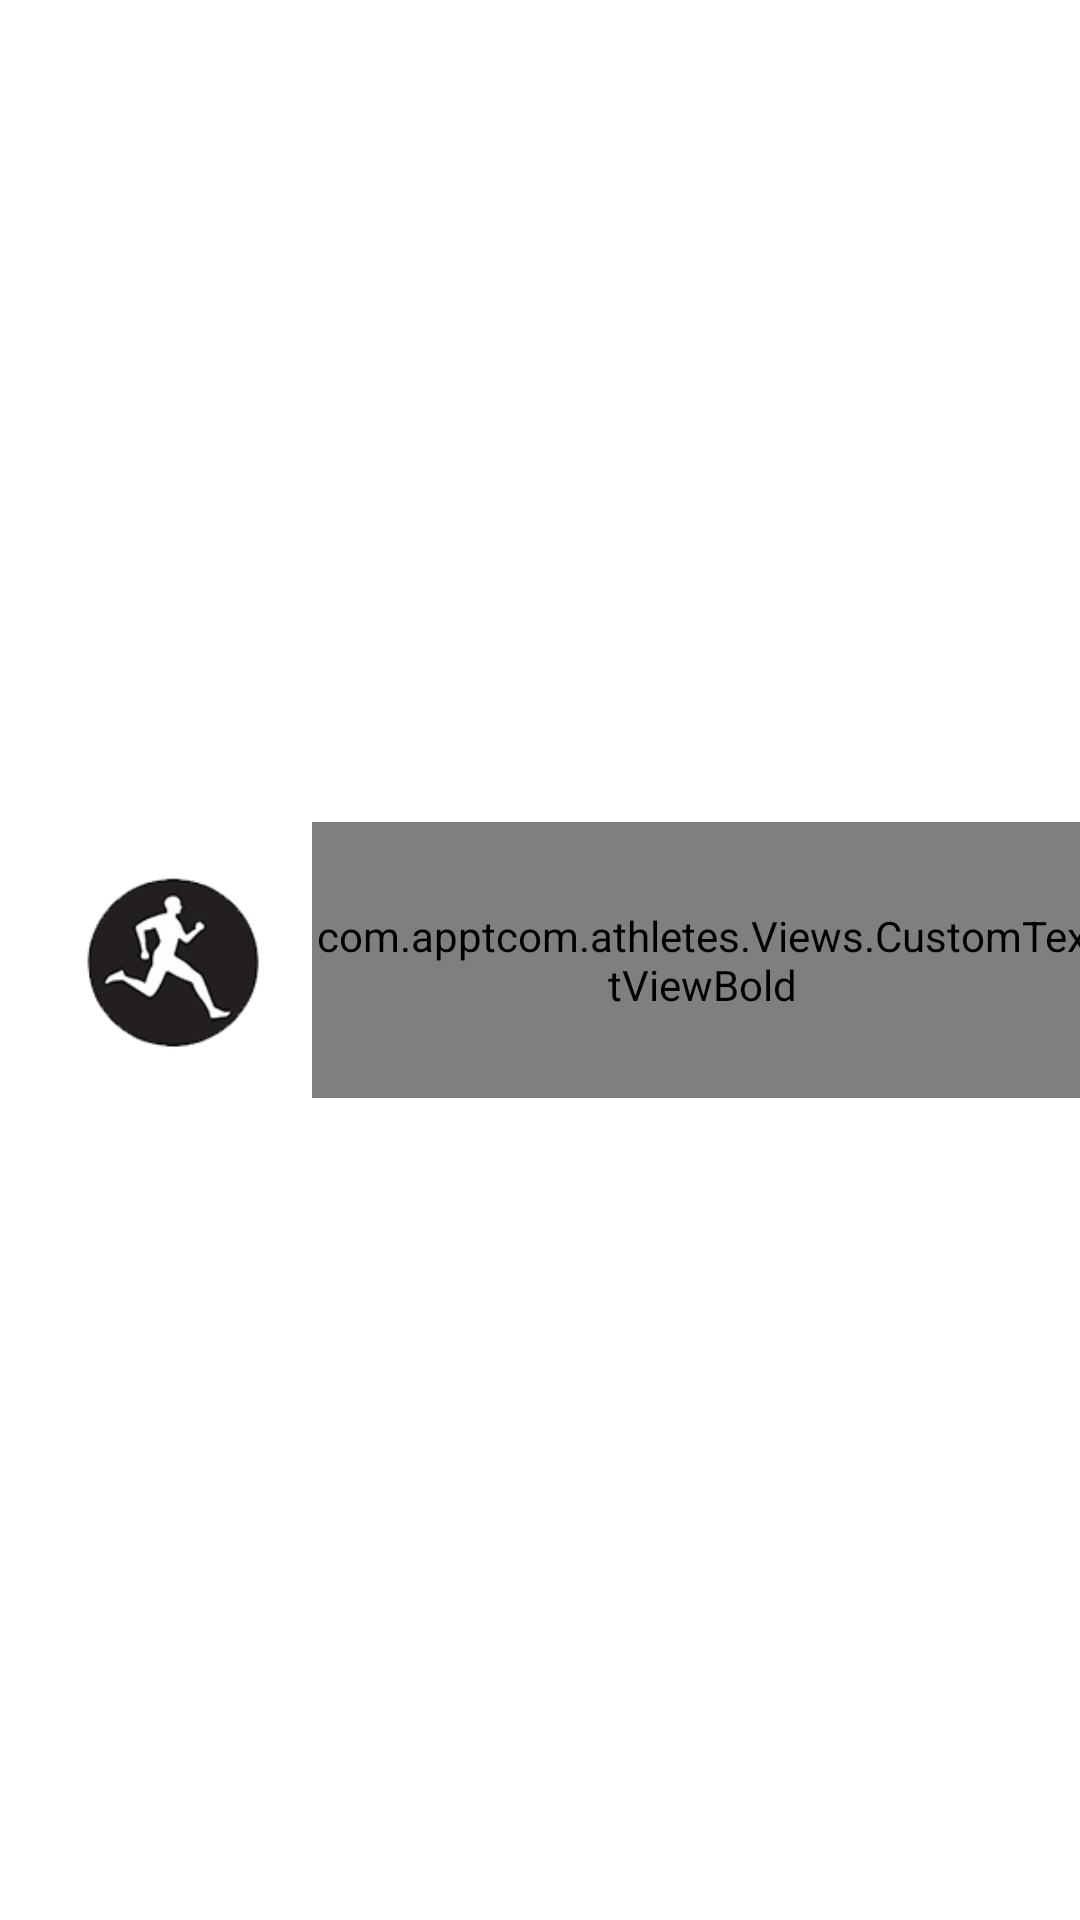

Icon bounding boxes for this 1080px×1920px phone screenshot, format (x1, y1, x2, y2):
holder athlete: (87, 878, 259, 1047)
